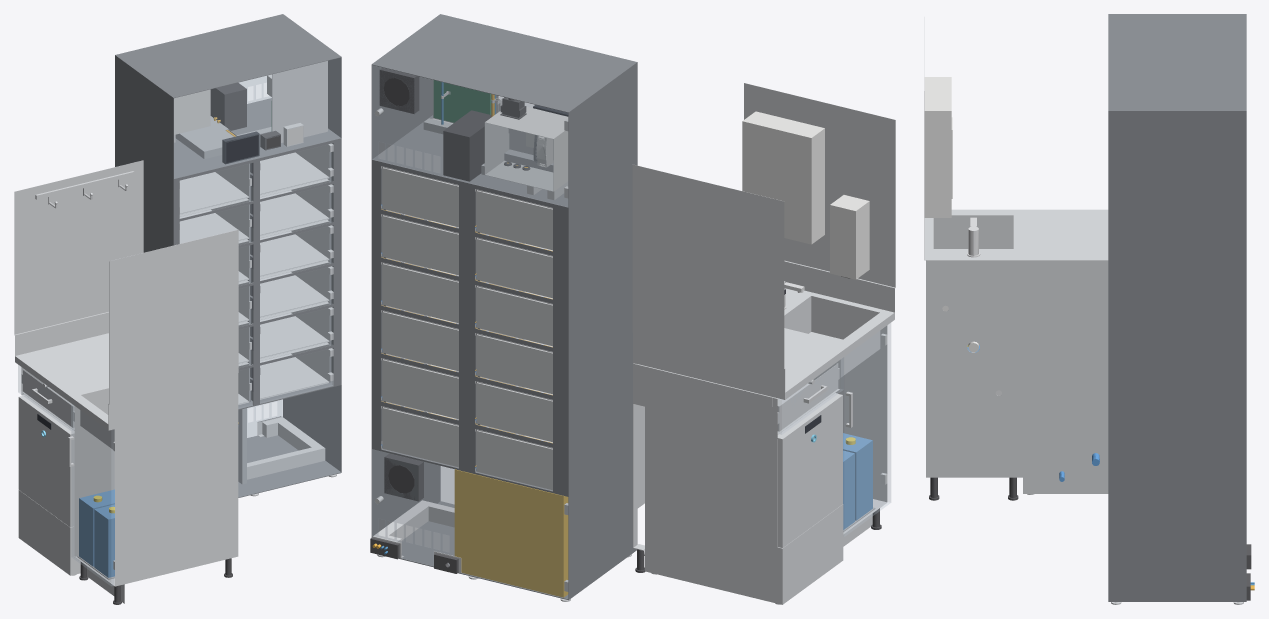
Rendered from modul_S.glb.
The picture shows the model from 3 angles, left to right: view 1: azimuth 30°, elevation 25°; view 2: azimuth 150°, elevation 25°; view 3: azimuth 270°, elevation 25°; orthographic projection. The views are drawn at different scales.
Parts seen in each view (by area): view 1: DUZ_TEZGAH_DUVAR__paslanmaz, QR_GOVDE__qr_govde, TEZGAH_GOVDE__paslanmaz, QR_GOVDE__on_seffaf, QR_GOZLER__aluminyum, TEZGAH_BULASIK__paslanmaz, QR_GOZLER__paslanmaz, TEZGAH_GOVDE__on_seffaf, QR_KILIT_KARTI__celik, QR_GOZLER__on_seffaf__GOZ_11_KAPI, QR_GOZLER__on_seffaf__GOZ_41_KAPI, QR_GOZLER__on_seffaf__GOZ_01_KAPI (+22 smaller); view 2: QR_GOVDE__qr_govde, DUZ_TEZGAH_DUVAR__paslanmaz, TEZGAH_BULASIK__paslanmaz, TEZGAH_GOVDE__paslanmaz, ELK_QR_MONTAJ__on_seffaf, QR_GOVDE__on_seffaf, QR_ROBOT_KONTROL__robot_kutu, TEZGAH_HIJYEN__beyaz_abs, TEZGAH_GOVDE__on_seffaf, ELK_QR_KUTU__pano, ELK_QR_KUTU__on_seffaf, TEZGAH_EVYE__paslanmaz (+21 smaller); view 3: QR_GOVDE__qr_govde, TEZGAH_GOVDE__paslanmaz, TEZGAH_HIJYEN__beyaz_abs, TEZGAH_BULASIK__paslanmaz, TEZGAH_EVYE__paslanmaz, TEZGAH_EVYE__krom.
Boxes of the visible parts, x1,y1,x2,y2 form: DUZ_TEZGAH_DUVAR__paslanmaz: (14,160,238,404); QR_GOVDE__qr_govde: (115,14,341,497); TEZGAH_GOVDE__paslanmaz: (15,312,238,603); QR_GOVDE__on_seffaf: (174,58,341,496); QR_GOZLER__aluminyum: (179,152,329,404); TEZGAH_BULASIK__paslanmaz: (18,395,80,575); QR_GOZLER__paslanmaz: (179,144,329,404); TEZGAH_GOVDE__on_seffaf: (71,404,114,585); QR_KILIT_KARTI__celik: (272,61,327,142); QR_GOZLER__on_seffaf__GOZ_11_KAPI: (260,307,333,362); QR_GOZLER__on_seffaf__GOZ_41_KAPI: (260,184,333,239); QR_GOZLER__on_seffaf__GOZ_01_KAPI: (260,348,333,403); QR_GOVDE__qr_govde: (371,14,637,600); DUZ_TEZGAH_DUVAR__paslanmaz: (632,83,895,369); TEZGAH_BULASIK__paslanmaz: (645,393,843,604); TEZGAH_GOVDE__paslanmaz: (633,261,894,550); ELK_QR_MONTAJ__on_seffaf: (372,449,567,598); QR_GOVDE__on_seffaf: (372,65,567,503); QR_ROBOT_KONTROL__robot_kutu: (454,469,568,597); TEZGAH_HIJYEN__beyaz_abs: (742,111,869,279); TEZGAH_GOVDE__on_seffaf: (840,323,890,536); ELK_QR_KUTU__pano: (484,106,568,191); ELK_QR_KUTU__on_seffaf: (485,123,552,191); TEZGAH_EVYE__paslanmaz: (784,295,880,377); QR_GOVDE__qr_govde: (1108,14,1246,601); TEZGAH_GOVDE__paslanmaz: (926,209,1108,477); TEZGAH_HIJYEN__beyaz_abs: (924,77,952,217); TEZGAH_BULASIK__paslanmaz: (1023,441,1108,493); TEZGAH_EVYE__paslanmaz: (933,215,1013,248); TEZGAH_EVYE__krom: (967,217,1001,395).
Bounding box in the file's own units: 1.6 × 2.05 × 1.24.
